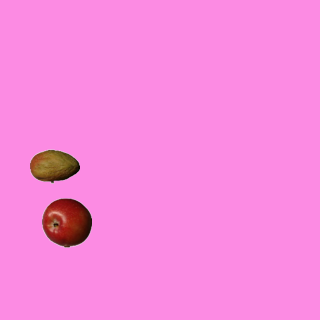Apple Braeburn: (41, 197, 91, 247)
Papaya: (29, 141, 79, 191)
